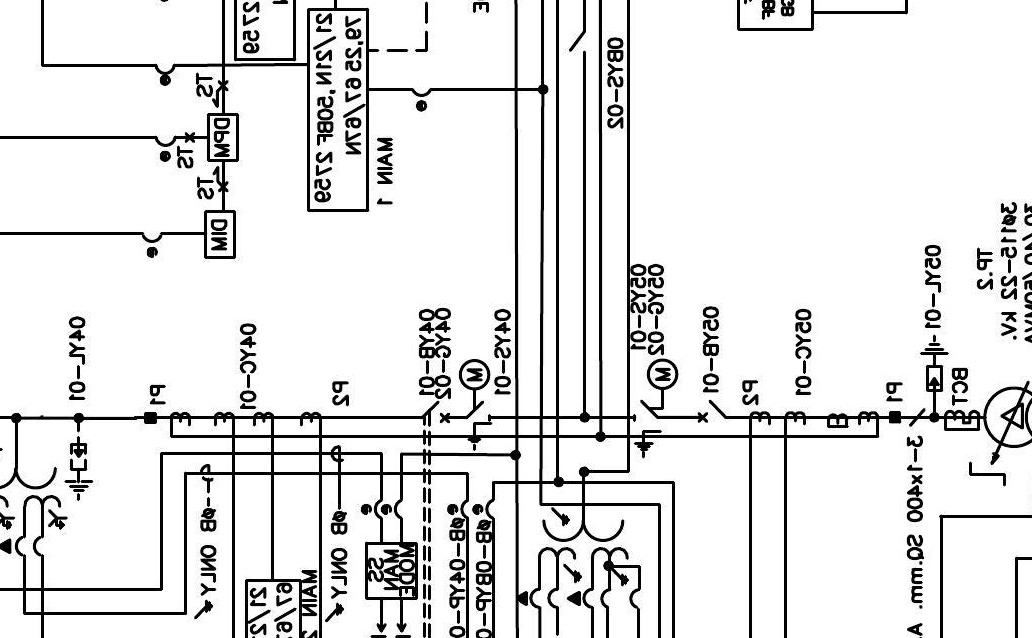115_3ways_ds_w_motor: (633, 358, 680, 459), (458, 358, 493, 452)
115_breaker: (421, 400, 451, 424), (698, 408, 728, 432)
115_ds: (568, 29, 587, 55)
115_la: (919, 334, 950, 393)
115_vt_1p: (516, 506, 630, 610)
DIM: (203, 209, 237, 260)
DPM: (206, 112, 240, 163)
ss_man_mode: (364, 541, 419, 601)
